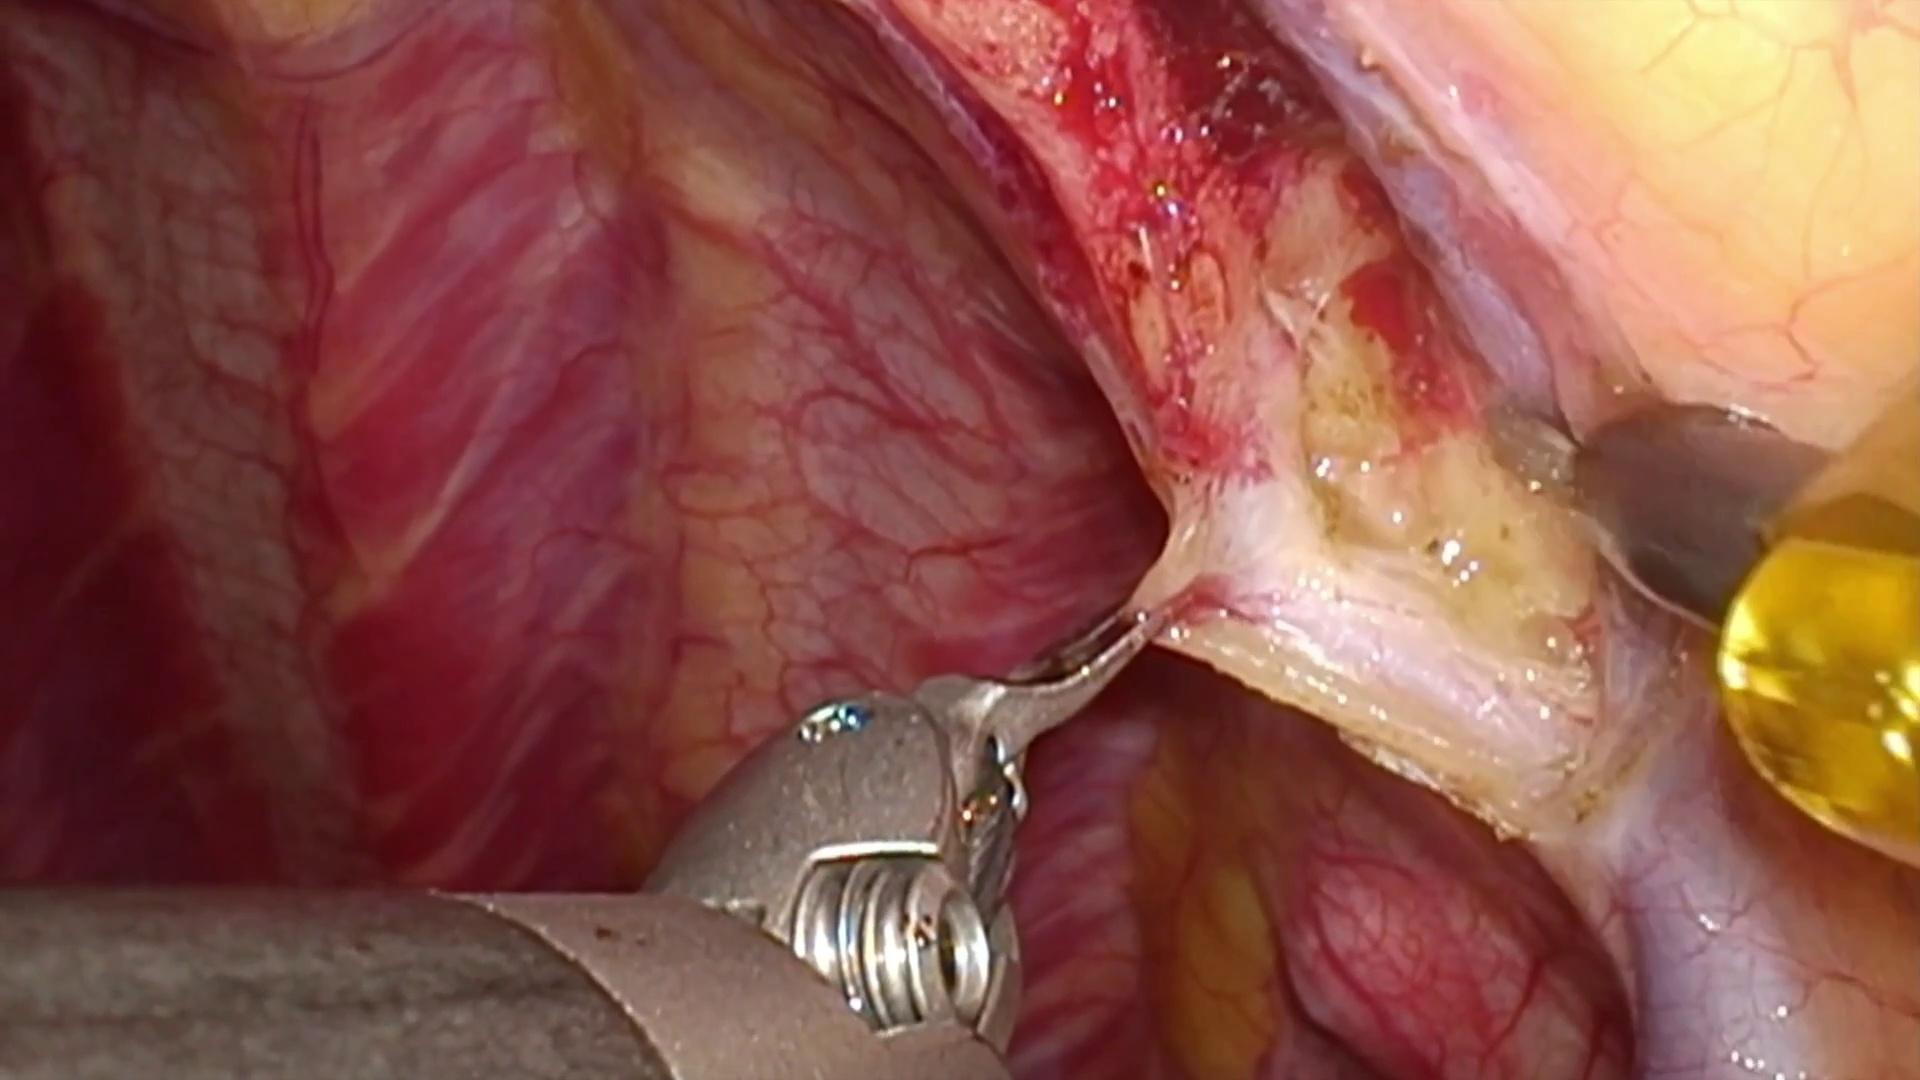Cautery_Spatula: (1484, 378, 1838, 637)
Debakey: (910, 603, 1171, 785)
